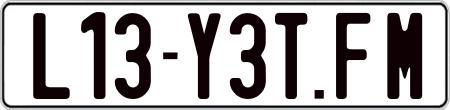1: (81, 12, 107, 100)
3: (115, 11, 157, 97), (227, 12, 268, 98)
F: (335, 10, 374, 97)
L: (32, 12, 73, 99)
M: (387, 10, 428, 100)
T: (274, 12, 306, 102)
Y: (187, 12, 222, 99)
